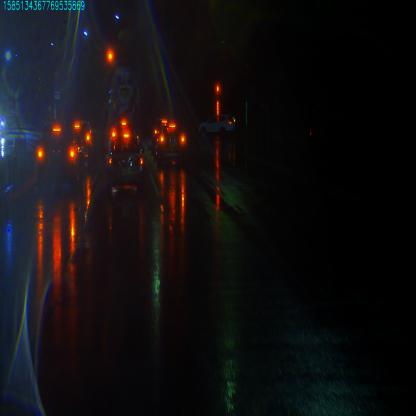traffic-light: (103, 45, 115, 66)
